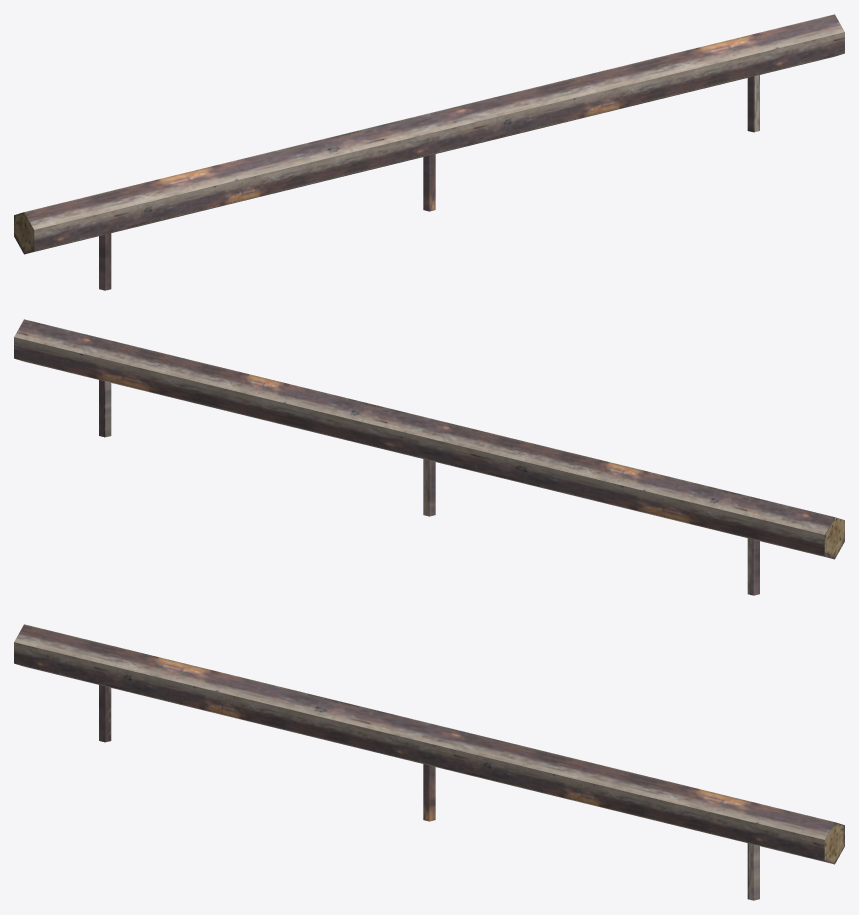
File: ParkourBarricadeLog01.obj
The picture shows the model from 3 angles, top to bottom: view 1: azimuth 30°, elevation 25°; view 2: azimuth 150°, elevation 25°; view 3: azimuth 330°, elevation 25°; orthographic projection.
Parts seen in each view (by area): view 1: ParkourBarricadeLog01; view 2: ParkourBarricadeLog01; view 3: ParkourBarricadeLog01.
Boxes of the visible parts, x1,y1,x2,y2 form: ParkourBarricadeLog01: (14, 14, 844, 290); ParkourBarricadeLog01: (14, 319, 844, 595); ParkourBarricadeLog01: (14, 624, 844, 900).
Size of the model in its own units: 10 by 1.12 by 0.433.
